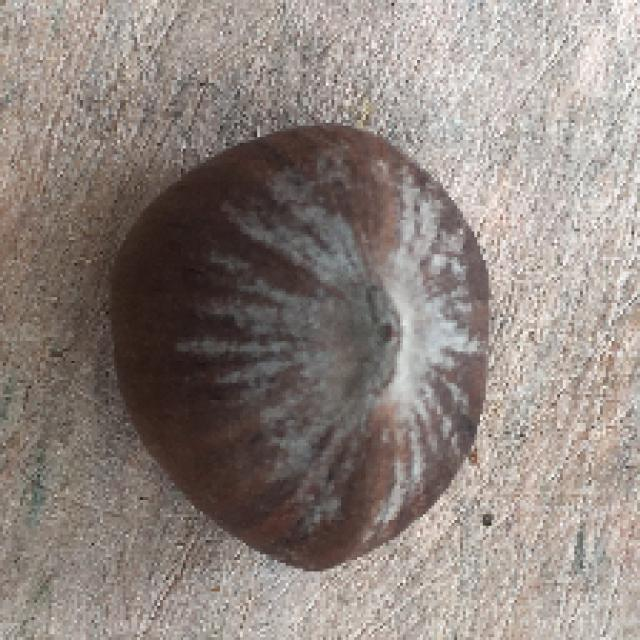damagedHazelnut: (112, 124, 493, 571)
